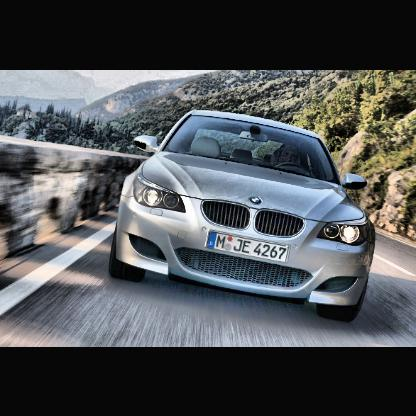BMW M5 Sedan 2010: (111, 112, 378, 326)
